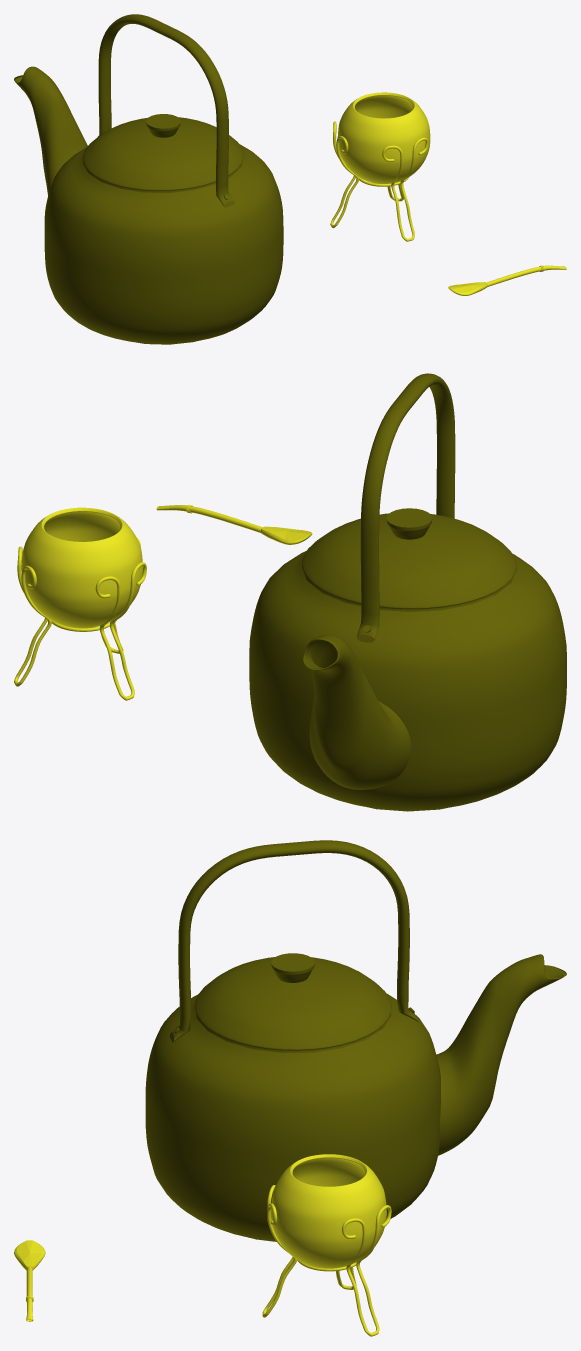
File: mate.fbx
3 views of the same model, one above another, from view 1: azimuth 30°, elevation 25°; view 2: azimuth 150°, elevation 25°; view 3: azimuth 270°, elevation 25° (orthographic). The views are drawn at different scales.
Parts seen in each view (by area): view 1: pava, mate_y_bombilla; view 2: pava, mate_y_bombilla; view 3: pava, mate_y_bombilla.
Part boxes in pixels (box(x1,y1,x2,y2)): pava: box(14, 14, 283, 344); mate_y_bombilla: box(330, 92, 566, 295); pava: box(249, 373, 566, 811); mate_y_bombilla: box(14, 505, 312, 700); pava: box(145, 840, 566, 1241); mate_y_bombilla: box(14, 1154, 391, 1336).
Bounding box in the file's own units: 1.51 × 1.03 × 1.44.
